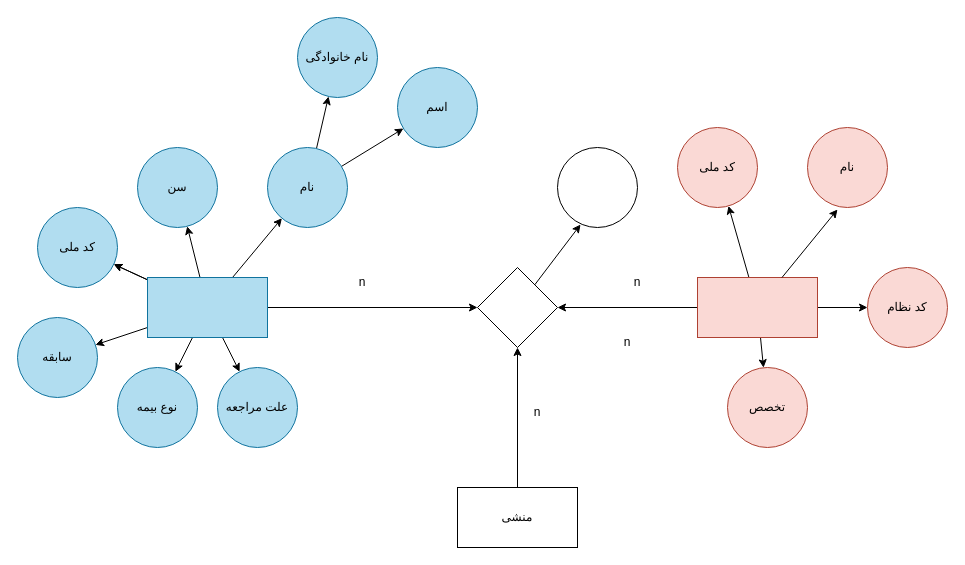
The diagram is 965 pixels wide and 565 high, and some of its shapes have lost their labels. The box of each missing label's shape, as (x1, y1, x2, y2) in pixels:
بیمار: (146, 276, 268, 338)
ویزیت: (476, 266, 558, 348)
پزشک: (696, 276, 818, 338)
